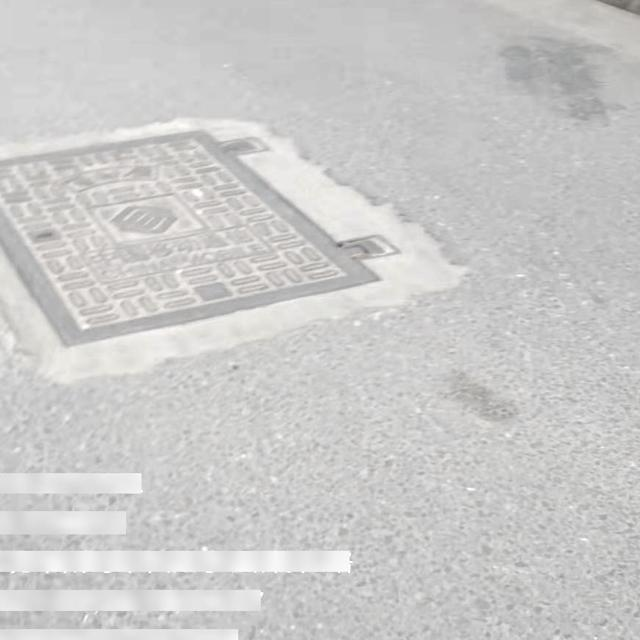good: (0, 119, 440, 338)
